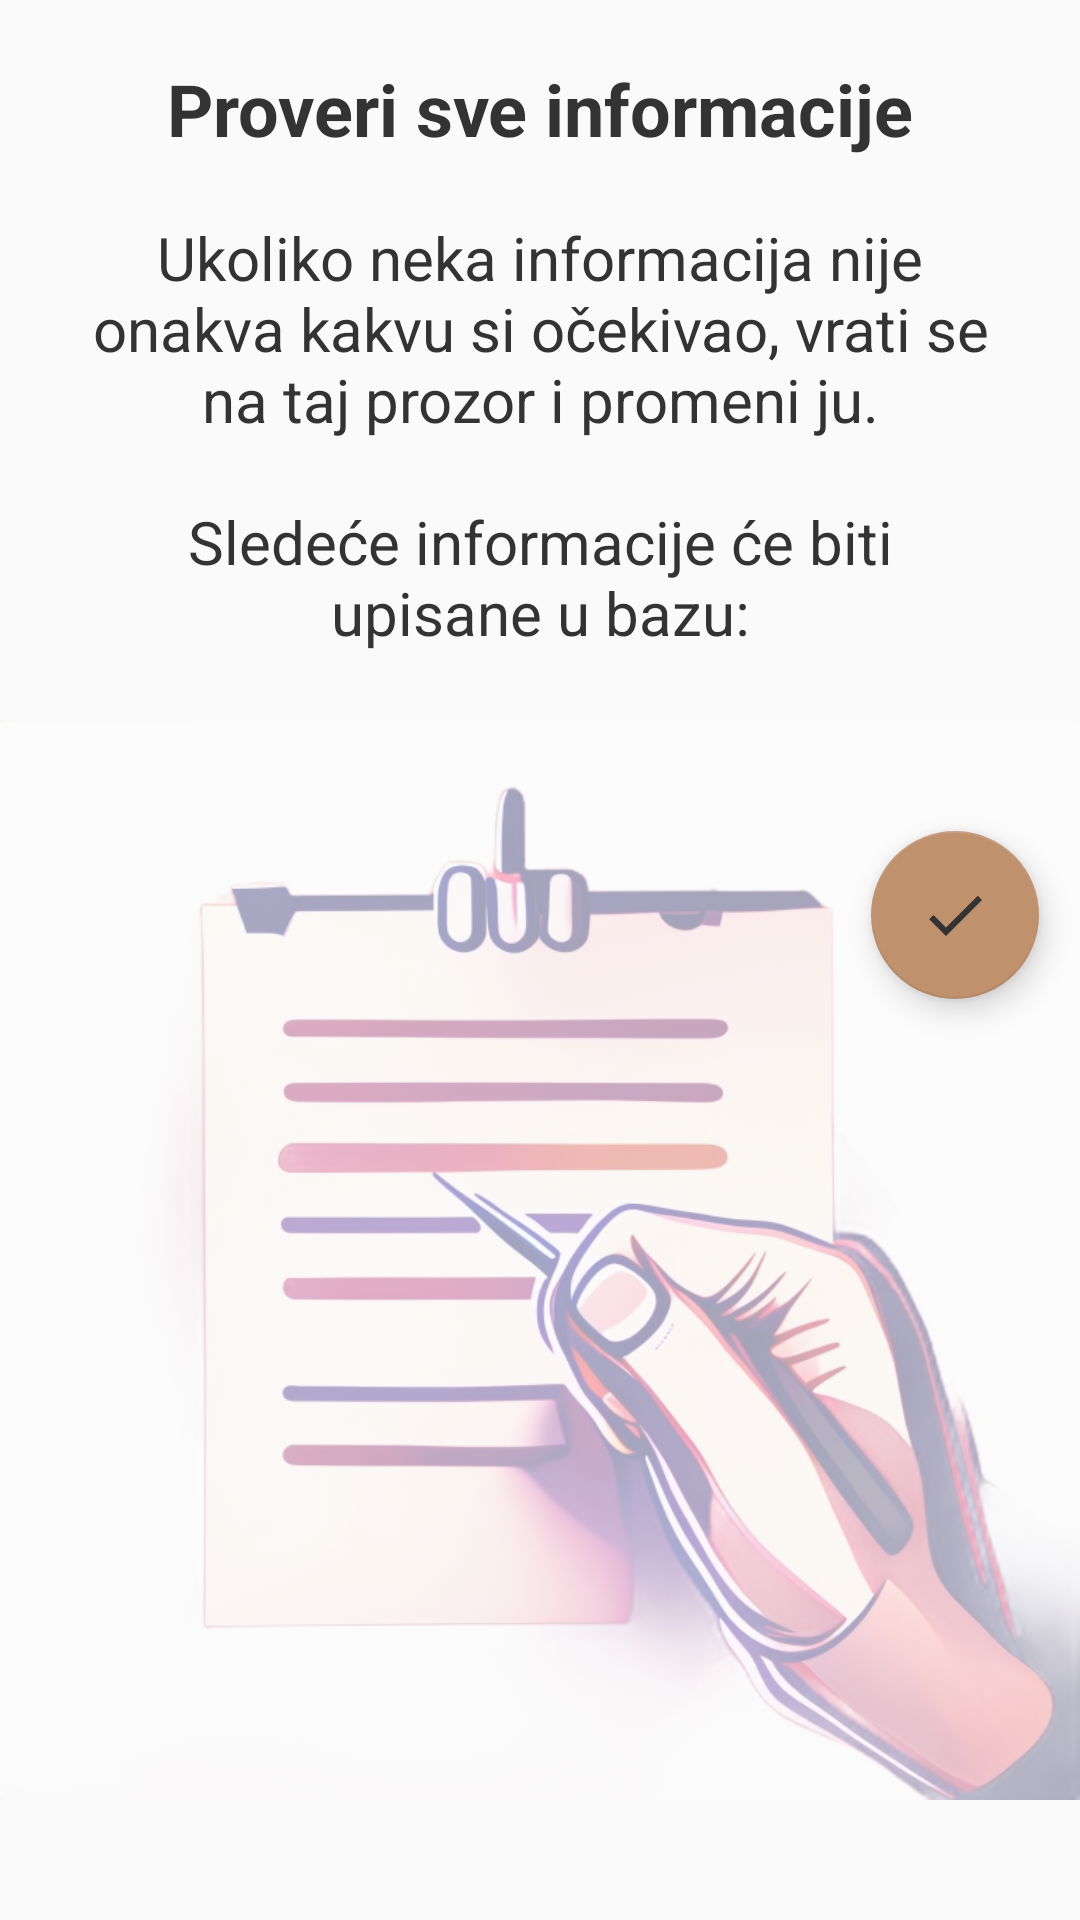

Where icons sit on this 1080px x 1920px app screen, as (x1, y1, x2, y2):
check: (871, 831, 1039, 999)
